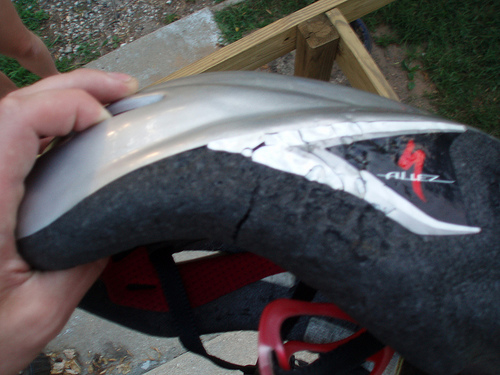helmet: (32, 84, 494, 337)
